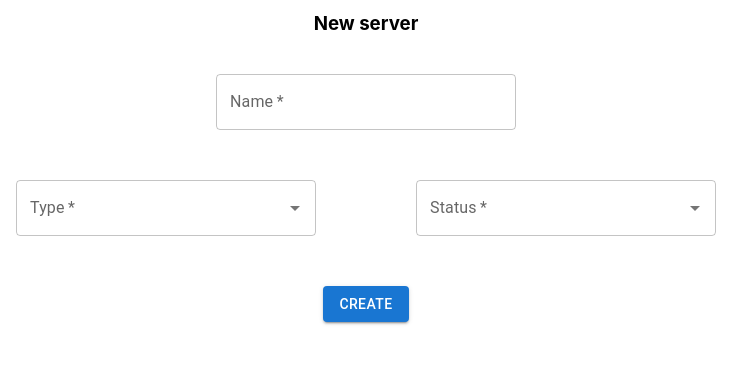
ServerDetail component Update tests › Servers detail Update 409 With already exist
This screenshot has width=733, height=365.
Type "nameTaken" into the field labelled "Name" at (366, 102), box left=216, top=74, right=516, bottom=130
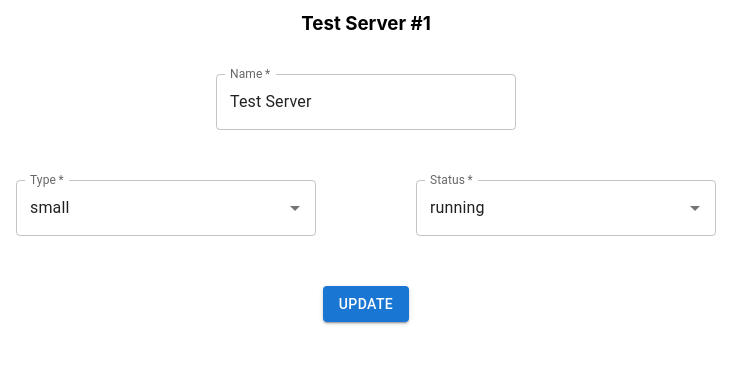
Click the link "Update" at (366, 304), box left=323, top=286, right=409, bottom=322
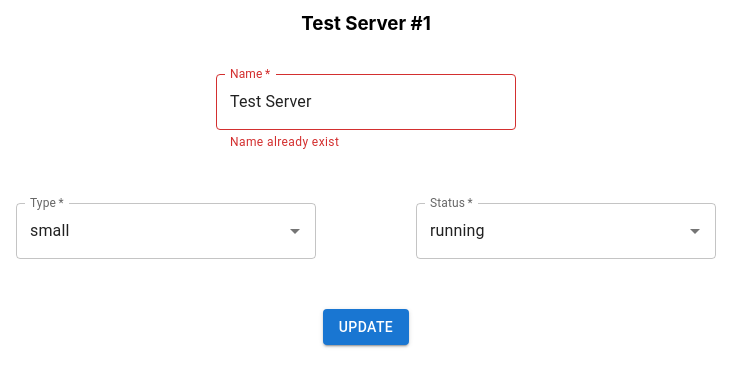
Result: the text "Name already exist" is shown at left=230, top=135, right=339, bottom=149
